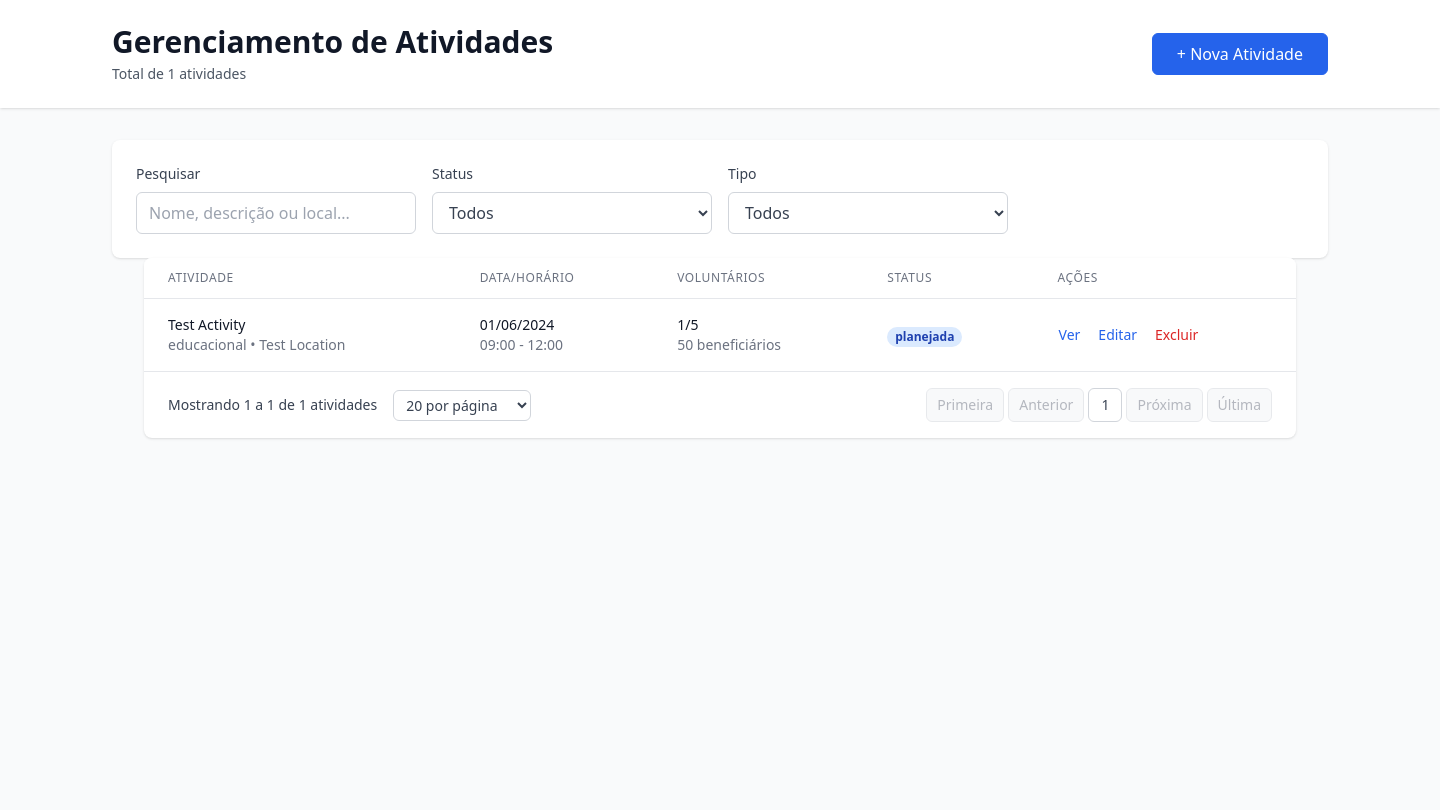
Test: ONGActivitiesPage › View Details › should display volunteer names in details
Click the button "Ver": (1069, 335) [1058,324,1081,346]
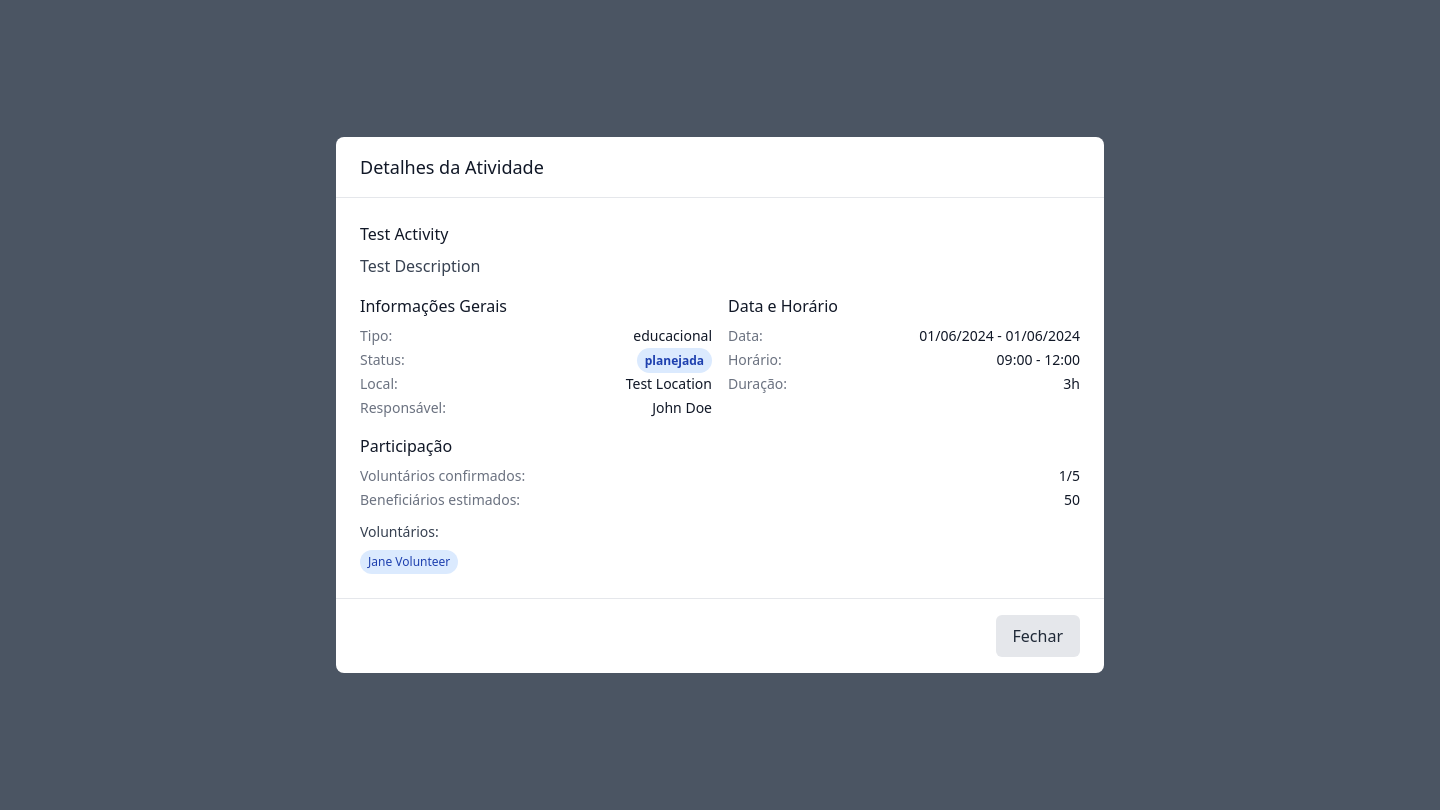
expect the text "Jane Volunteer" is shown: met, box [360,550,458,574]
